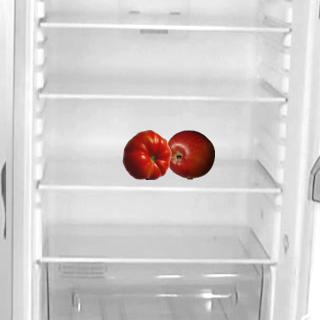Apple Braeburn: (164, 129, 214, 179)
Tomato 3: (121, 129, 171, 179)
